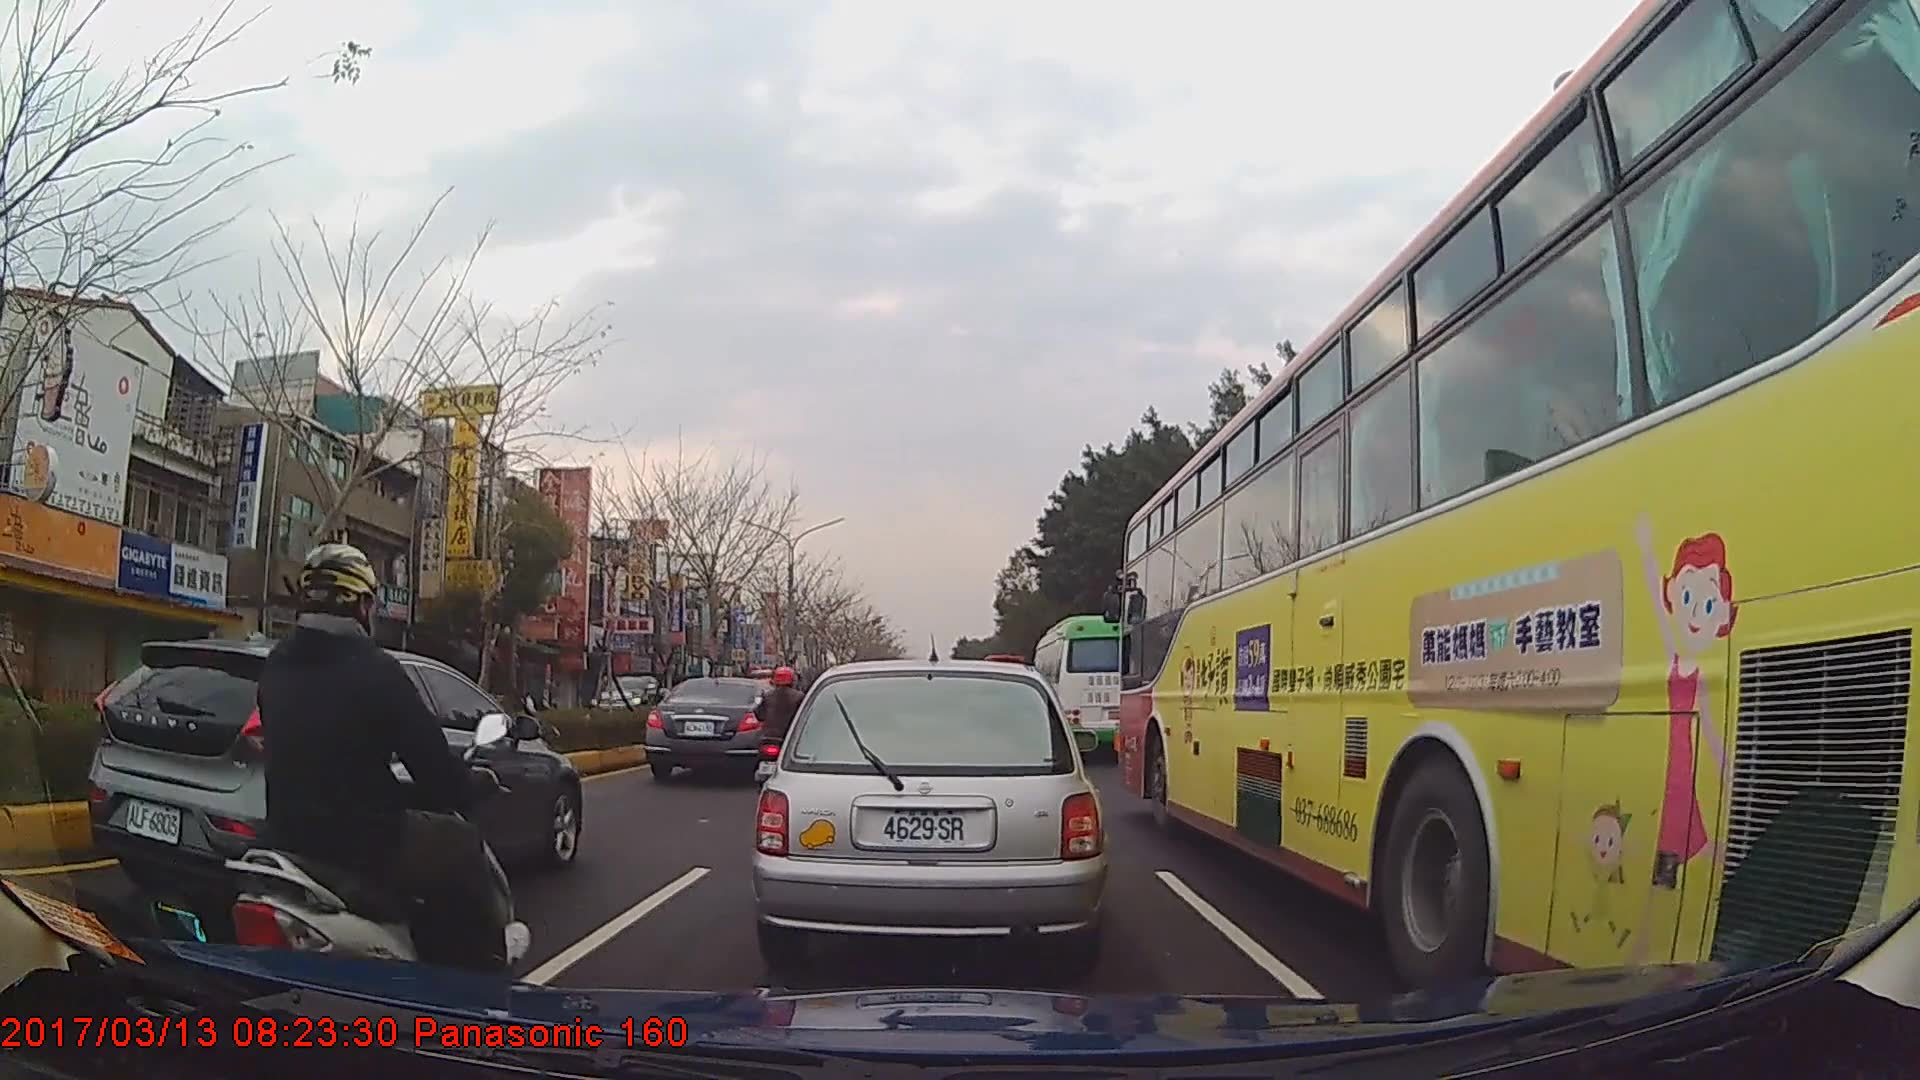rider: (248, 542, 526, 1006), (755, 666, 814, 796)
vehicle: (1116, 0, 1920, 1014), (79, 635, 580, 924), (751, 654, 1108, 968), (1030, 613, 1150, 761), (645, 673, 799, 784), (589, 673, 674, 729)
